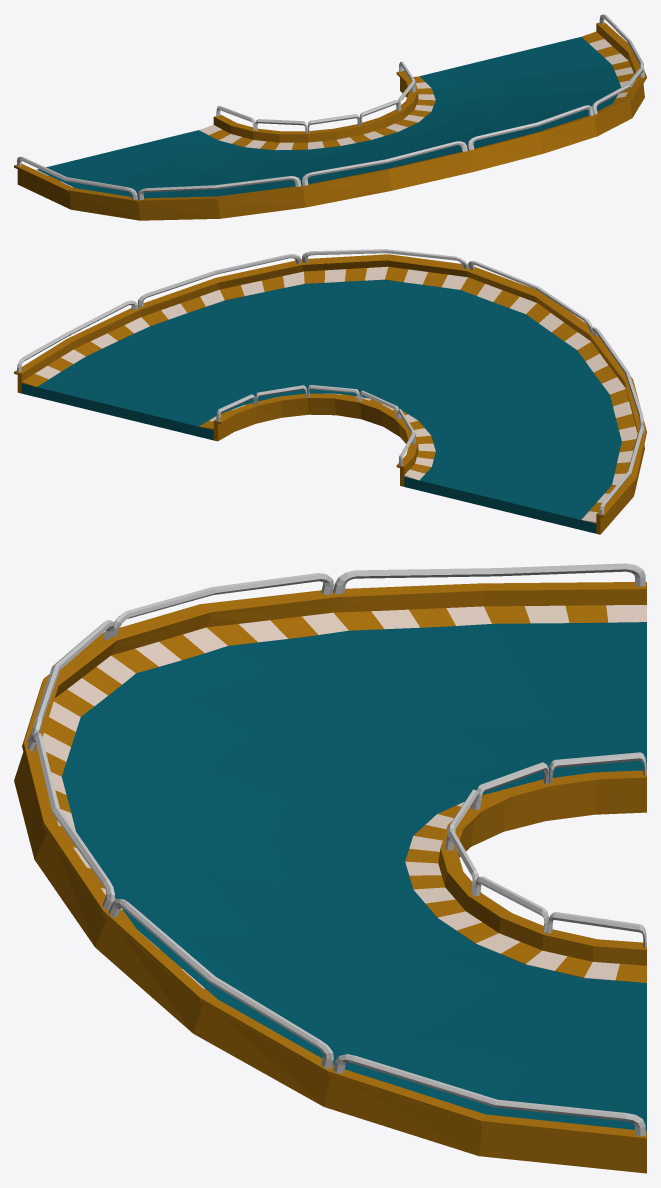
Rendered from curveLeft-180-Banked-15.FBX.
The picture shows the model from 3 angles, top to bottom: view 1: azimuth 30°, elevation 25°; view 2: azimuth 150°, elevation 25°; view 3: azimuth 270°, elevation 25°; orthographic projection. The views are drawn at different scales.
Visible parts, largest first — view 1: curveLeft-180-Banked-15, wall_r, wall_l, curbs_l, curbs_r; view 2: curveLeft-180-Banked-15, wall_r, curbs_r, wall_l, curbs_l; view 3: curveLeft-180-Banked-15, wall_r, wall_l, curbs_r, curbs_l.
Part boxes in pixels (<box>): curveLeft-180-Banked-15: <box>37,37,621,198</box>; wall_r: <box>14,14,646,220</box>; wall_l: <box>213,61,418,142</box>; curbs_l: <box>199,76,435,150</box>; curbs_r: <box>35,31,635,187</box>; curveLeft-180-Banked-15: <box>21,280,621,533</box>; wall_r: <box>14,249,646,534</box>; curbs_r: <box>21,266,637,523</box>; wall_l: <box>213,385,418,486</box>; curbs_l: <box>199,393,435,480</box>; curveLeft-180-Banked-15: <box>62,622,646,1131</box>; wall_r: <box>14,563,646,1173</box>; wall_l: <box>438,752,646,965</box>; curbs_r: <box>42,605,646,998</box>; curbs_l: <box>405,791,646,982</box>.
Size of what is drawn, in the model's own units: 589 by 85.37 by 283.
